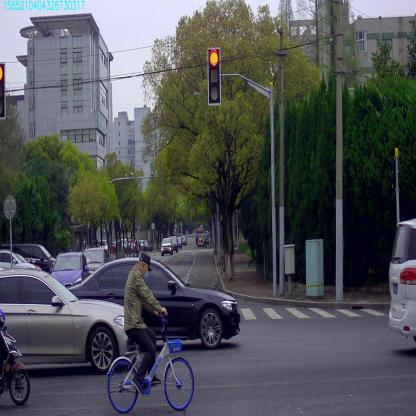traffic-light: (208, 49, 220, 104), (0, 63, 5, 118)
